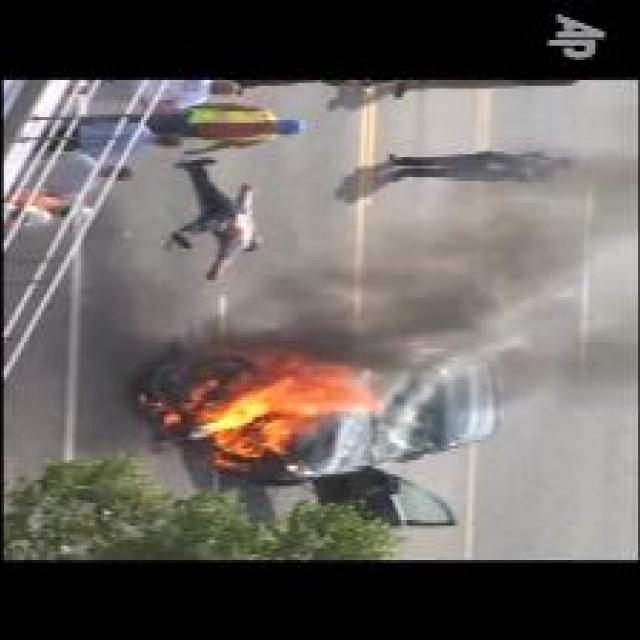Fire: (187, 354, 384, 468)
